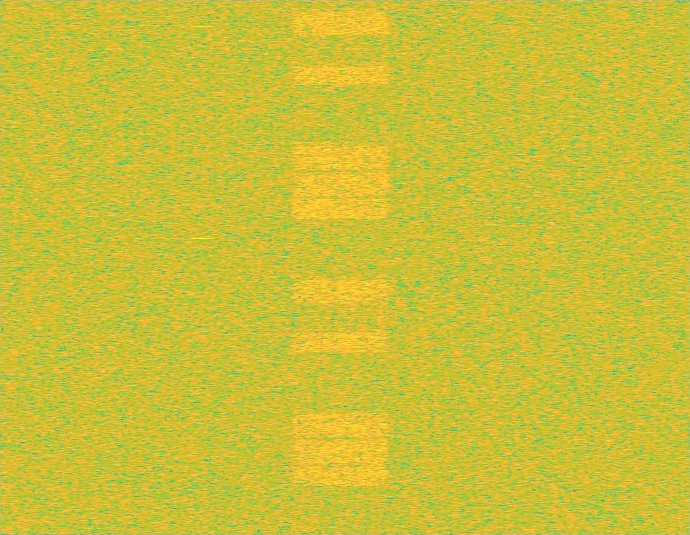LTE: (289, 0, 392, 534)
Radar: (196, 0, 209, 534)
